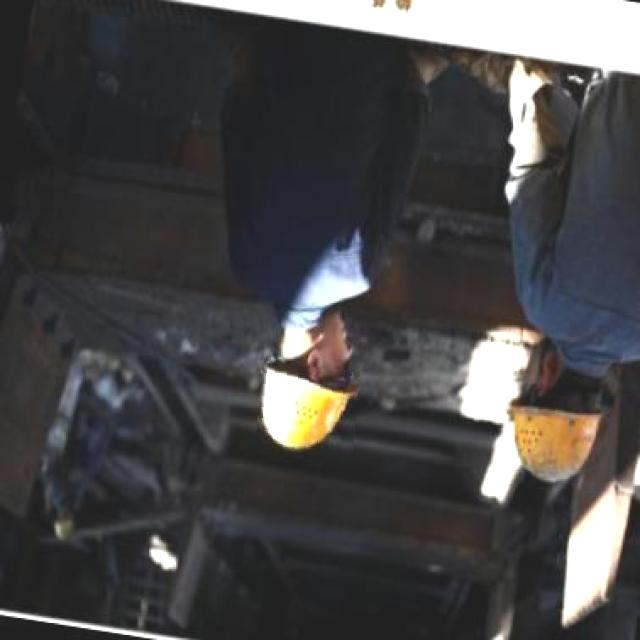helmet: (257, 365, 359, 454), (508, 401, 603, 483)
